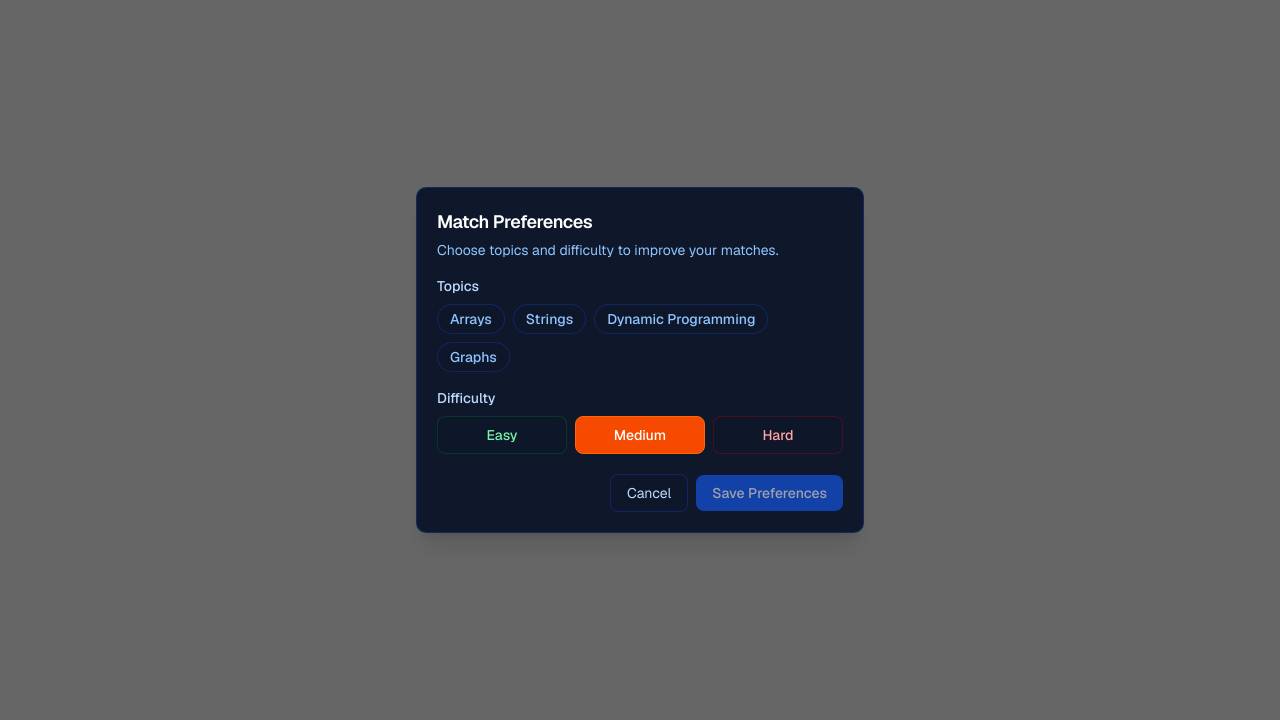
PreferenceModal › enables Save button when at least one topic is selected
This screenshot has width=1280, height=720.
Click the button "Arrays".
click(471, 319)  # box 437,304 -> 505,334
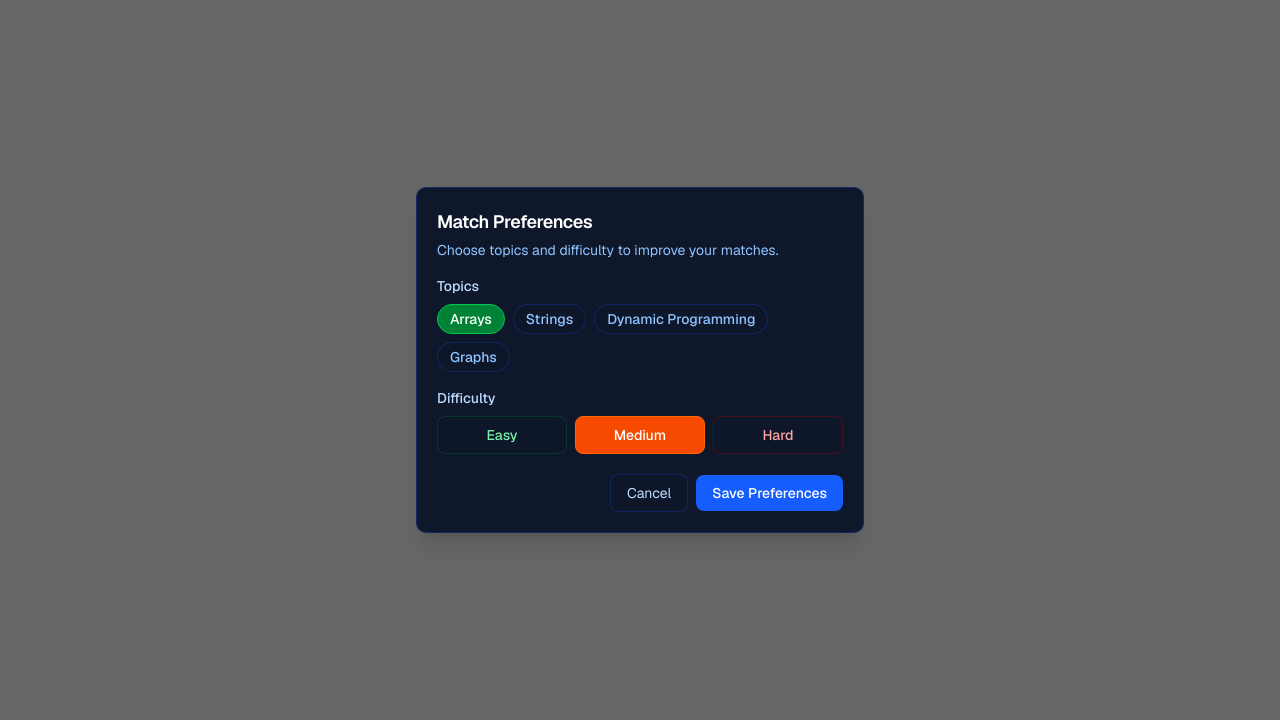
Result: the button "Save Preferences" is enabled at 696,475 -> 843,511
